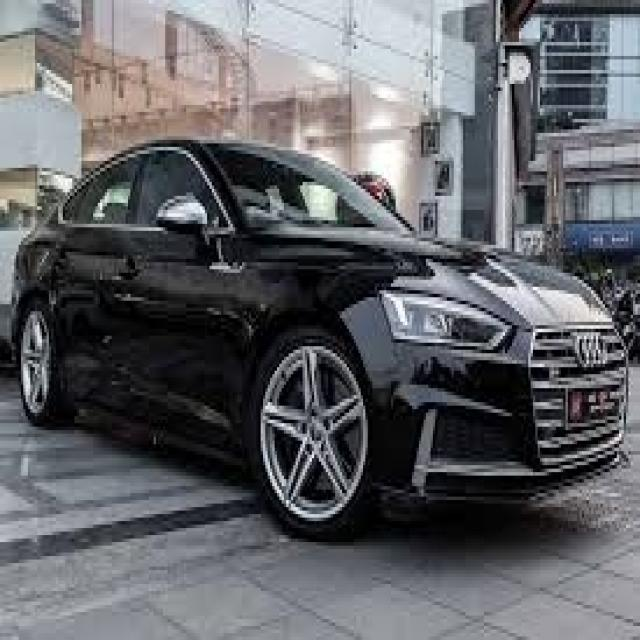black: (11, 129, 640, 539)
